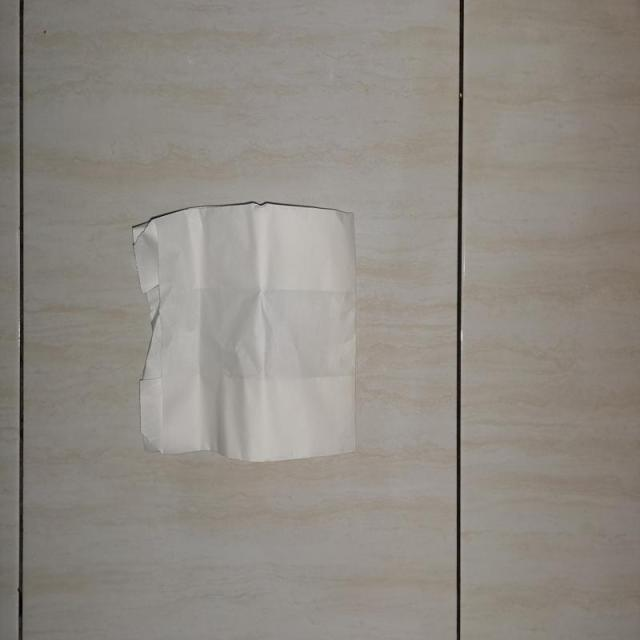Organik: (125, 191, 380, 467)
